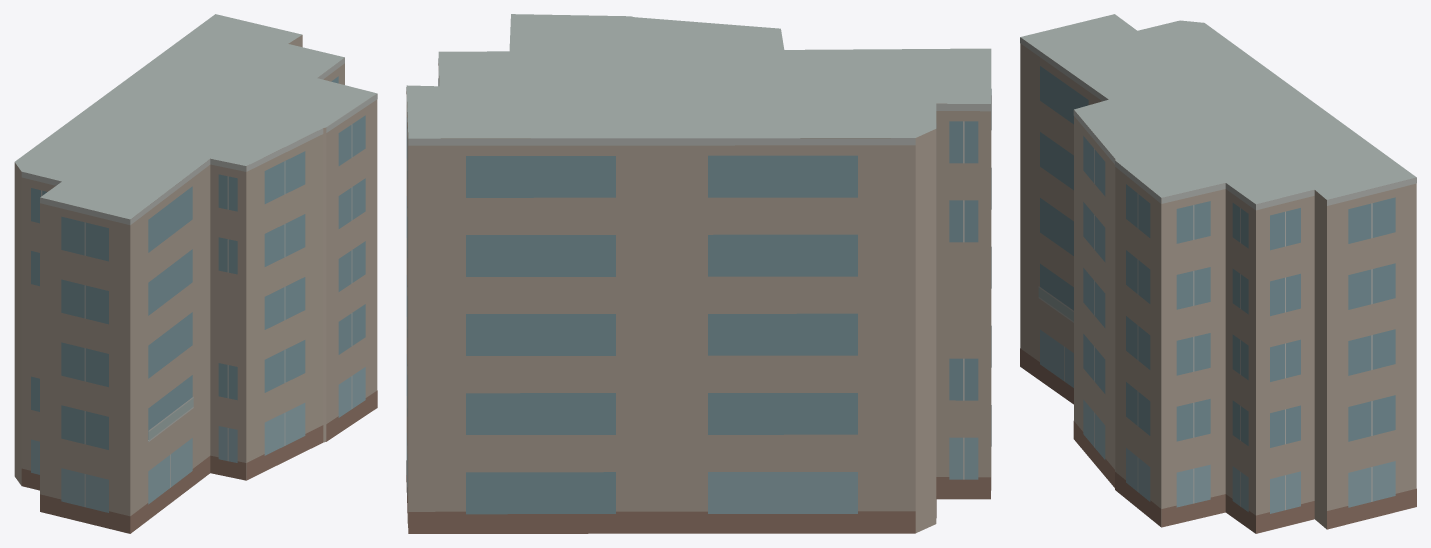
Rendered from survey-upis-32871541.glb.
3 renders of one model, left to right at view 1: azimuth 30°, elevation 25°; view 2: azimuth 150°, elevation 25°; view 3: azimuth 270°, elevation 25°, orthographic. The views are drawn at different scales.
Visible parts, largest first — view 1: survey-upis-32871541.tmp; view 2: survey-upis-32871541.tmp; view 3: survey-upis-32871541.tmp.
Part boxes in pixels (x1,y1,x2,y2): survey-upis-32871541.tmp: [14, 14, 377, 533]; survey-upis-32871541.tmp: [406, 14, 991, 533]; survey-upis-32871541.tmp: [1020, 14, 1416, 533].
Size of the model in its own units: 16.36 by 13.2 by 14.41.
